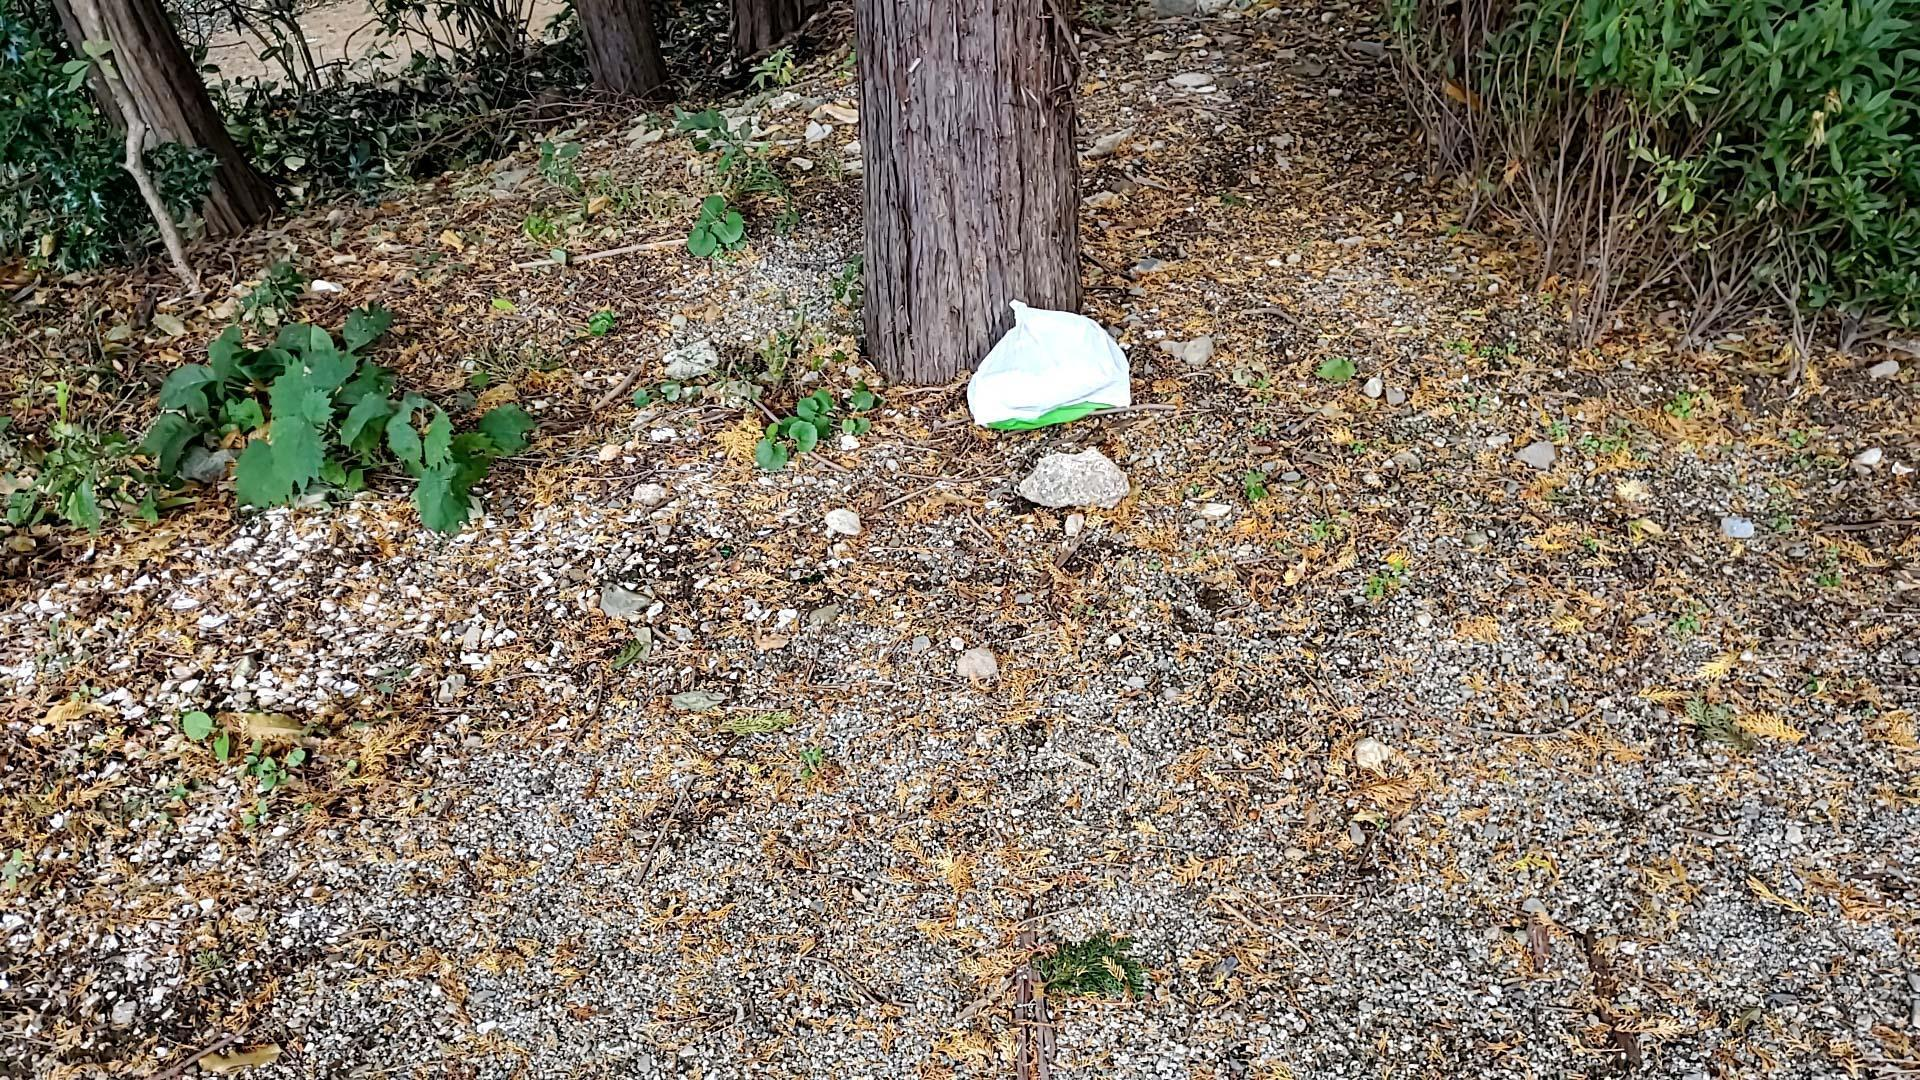white_bag: (948, 293, 1146, 444)
